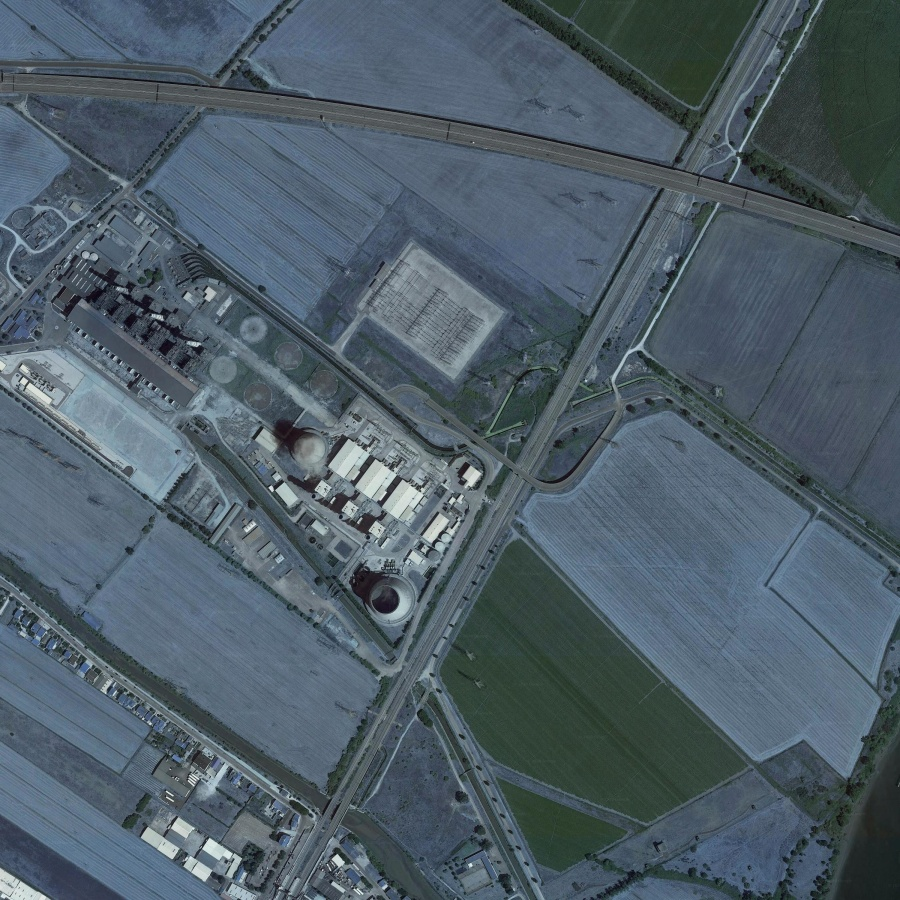PowerPlant: (25, 234, 479, 641)
